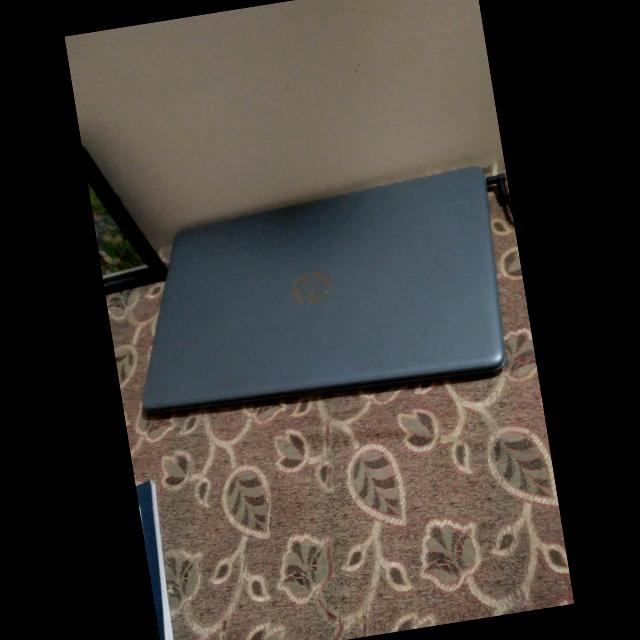laptop: (125, 152, 532, 442)
